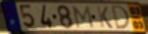4: (40, 4, 54, 30)
5: (18, 4, 37, 30)
8: (57, 5, 75, 30)
D: (111, 5, 132, 31)
K: (95, 5, 115, 30)
M: (71, 5, 95, 30)
